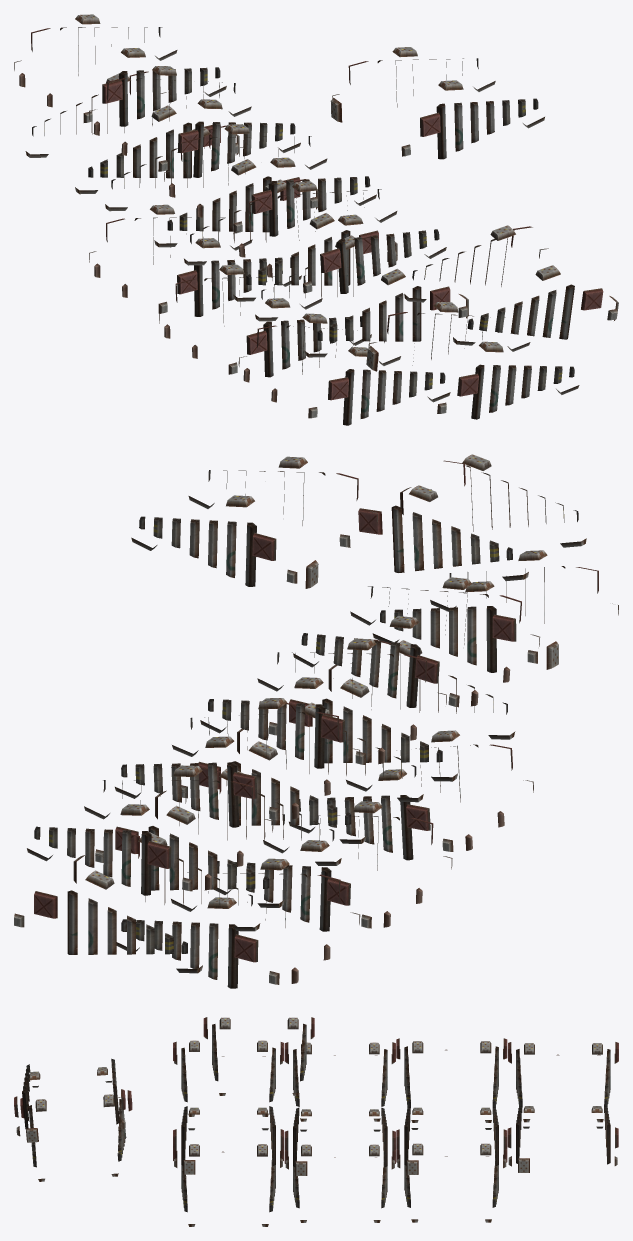
File: prop_static_tan_container_01_07_0.glb
3 views of the same model, one above another, from view 1: azimuth 30°, elevation 25°; view 2: azimuth 150°, elevation 25°; view 3: azimuth 270°, elevation 25° (orthographic). The views are drawn at different scales.
Parts seen in each view (by area): view 1: tan_container_01_07_LOD0; view 2: tan_container_01_07_LOD0; view 3: tan_container_01_07_LOD0.
Boxes of the visible parts, x1,y1,x2,y2 form: tan_container_01_07_LOD0: (14,14,618,425); tan_container_01_07_LOD0: (14,454,618,988); tan_container_01_07_LOD0: (14,1017,618,1226).
Size of what is drawn, in the model's own units: 5.04 by 5.22 by 12.9.
Materials: 1 (1 with a texture image).
